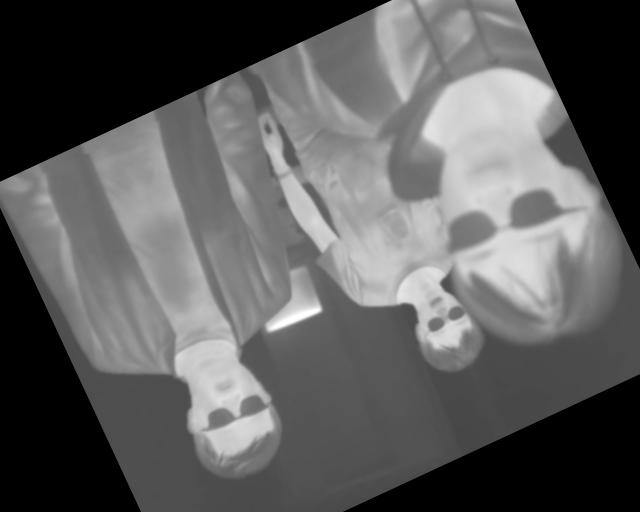face: (399, 95, 640, 374), (161, 341, 300, 493), (395, 274, 492, 385)
